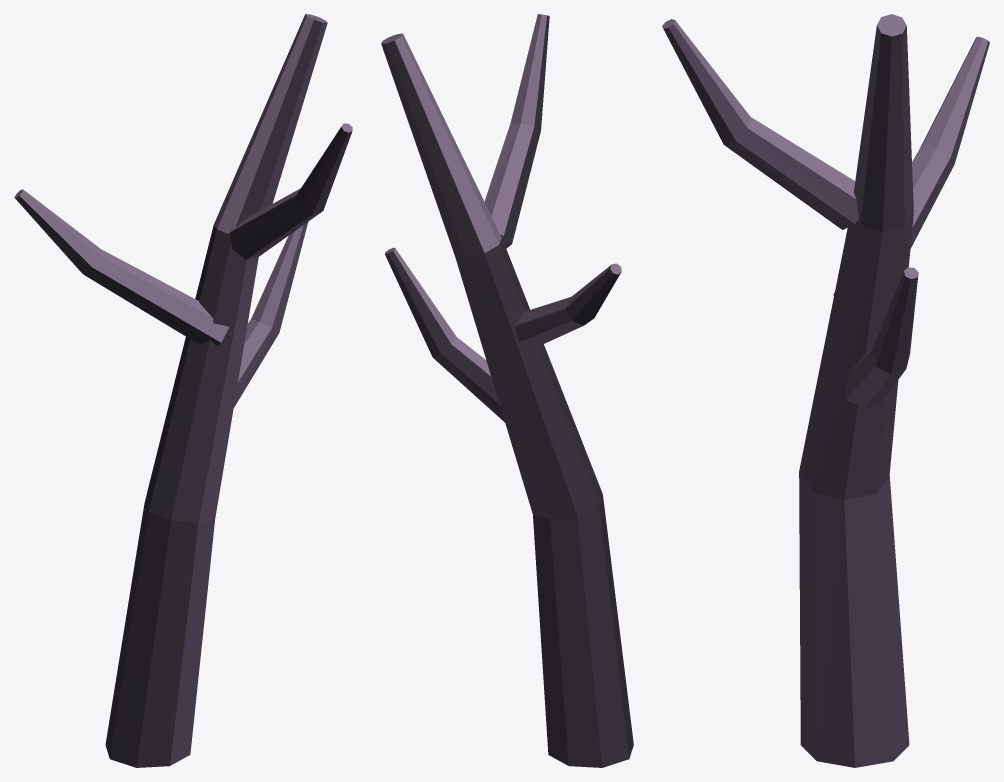
Rendered from TW_TREE_DEAD_LEAN_B_LOD0.glb.
3 views of the same model, side by side, from view 1: azimuth 30°, elevation 25°; view 2: azimuth 150°, elevation 25°; view 3: azimuth 270°, elevation 25° (orthographic). The views are drawn at different scales.
Visible parts, largest first — view 1: TW_TREE_DEAD_LEAN_B_LOD0; view 2: TW_TREE_DEAD_LEAN_B_LOD0; view 3: TW_TREE_DEAD_LEAN_B_LOD0.
Boxes of the visible parts, x1=… form: TW_TREE_DEAD_LEAN_B_LOD0: x1=14, y1=14, x2=352, y2=767; TW_TREE_DEAD_LEAN_B_LOD0: x1=381, y1=14, x2=633, y2=767; TW_TREE_DEAD_LEAN_B_LOD0: x1=662, y1=14, x2=989, y2=767.
Bounding box in the file's own units: 1.27 × 3.01 × 1.07.
Materials: 1 (1 with a texture image).
